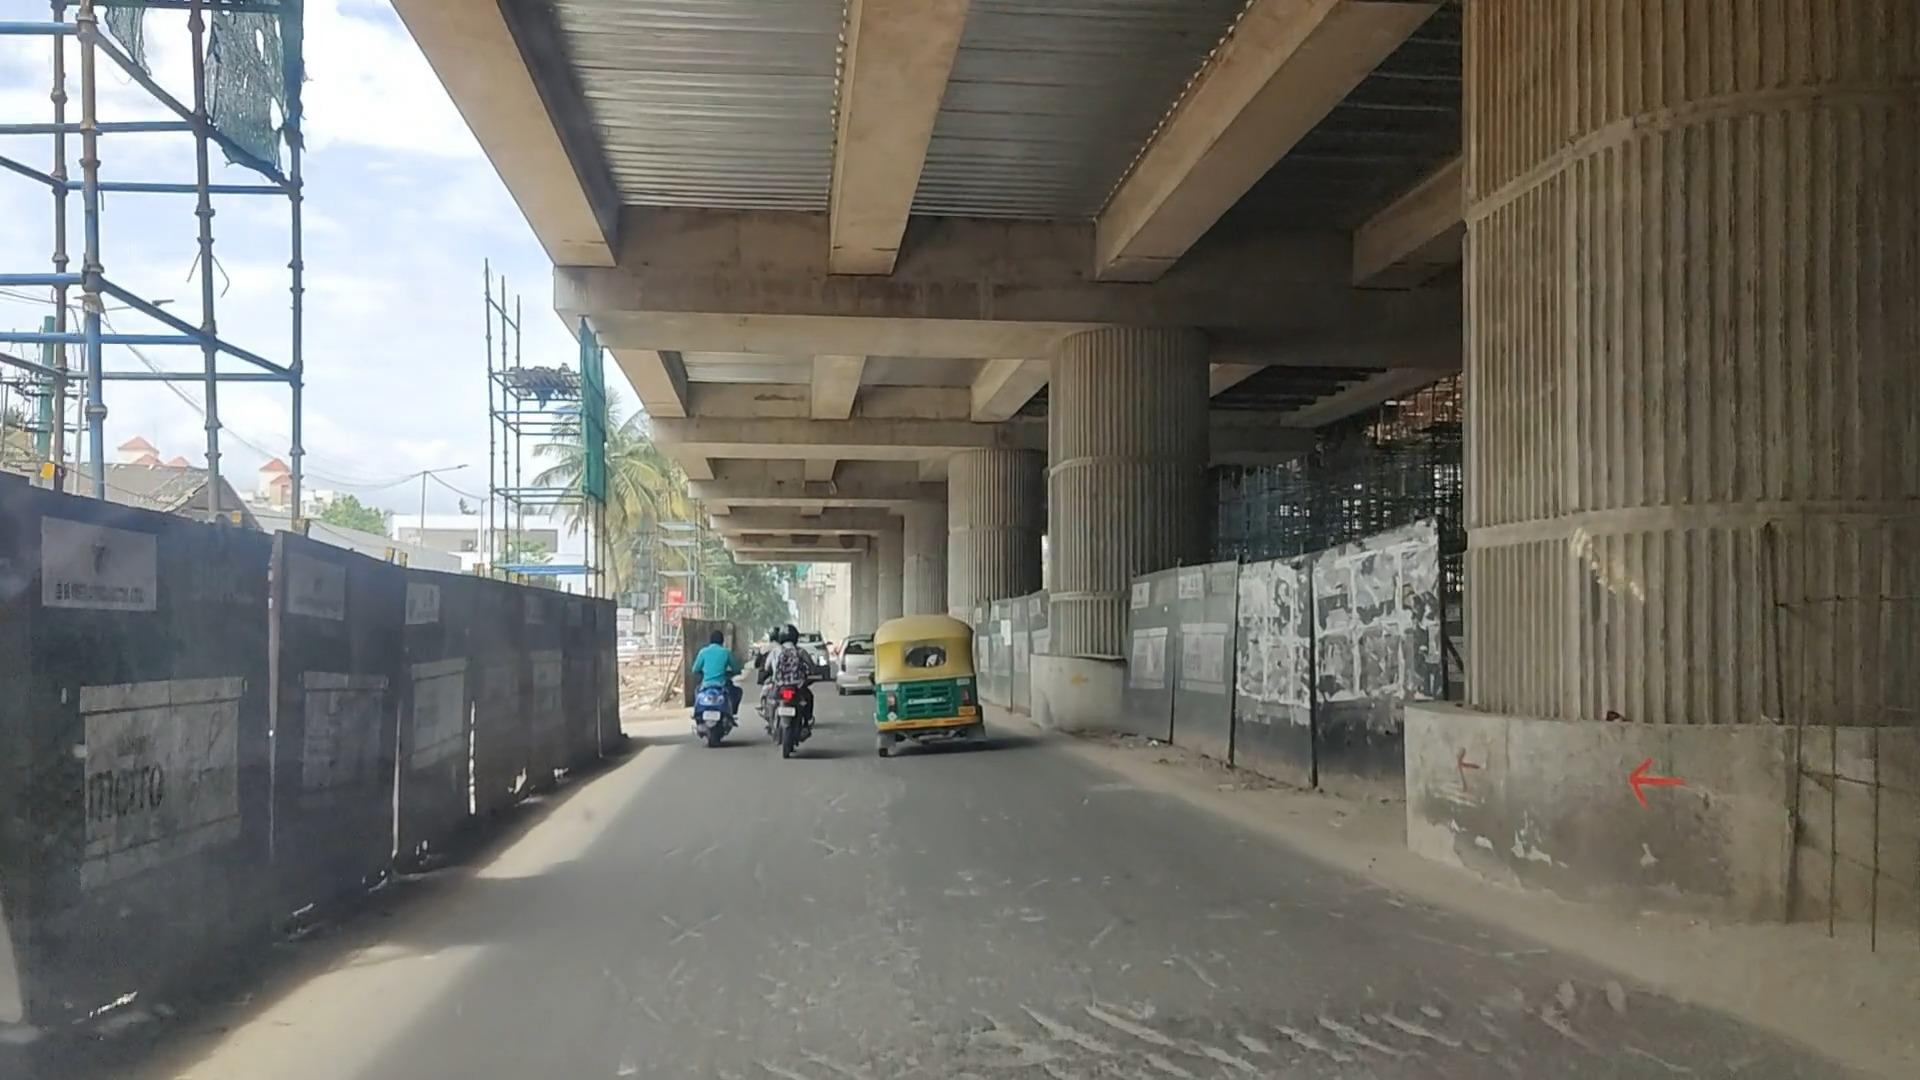LMV: (856, 591, 978, 782), (745, 597, 814, 778)
RoadDamages: (702, 901, 1743, 1077), (720, 777, 1166, 926)
